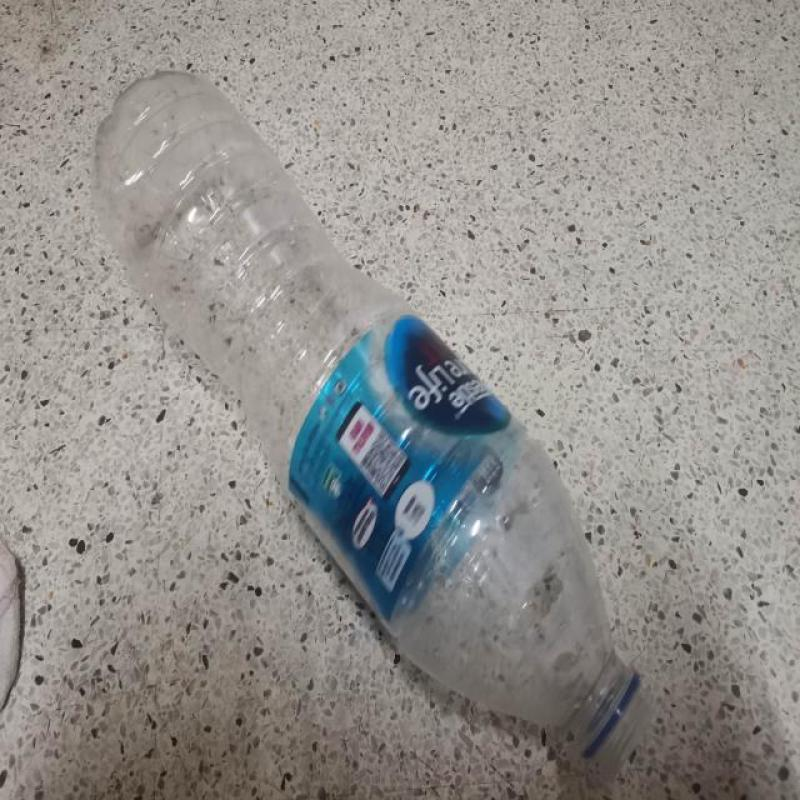botella: (95, 71, 655, 775)
